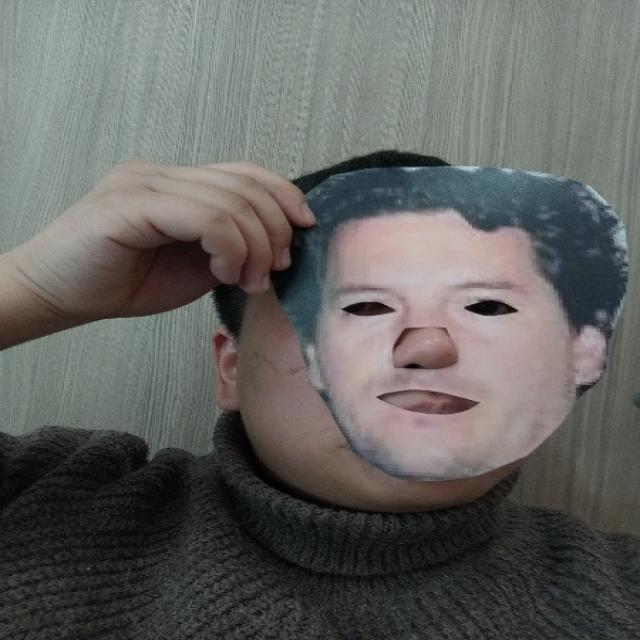mask: (262, 160, 630, 481)
